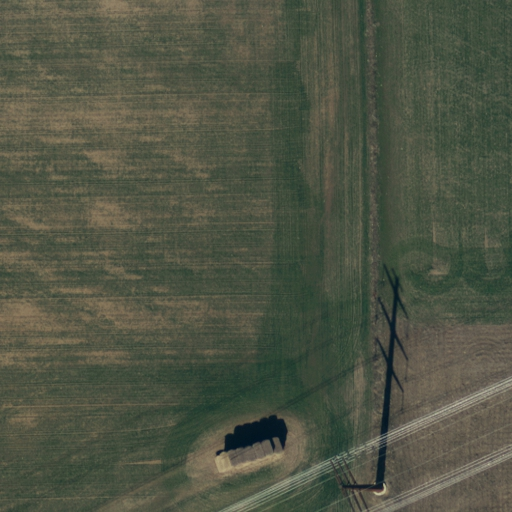TT: (327, 450, 389, 509)
